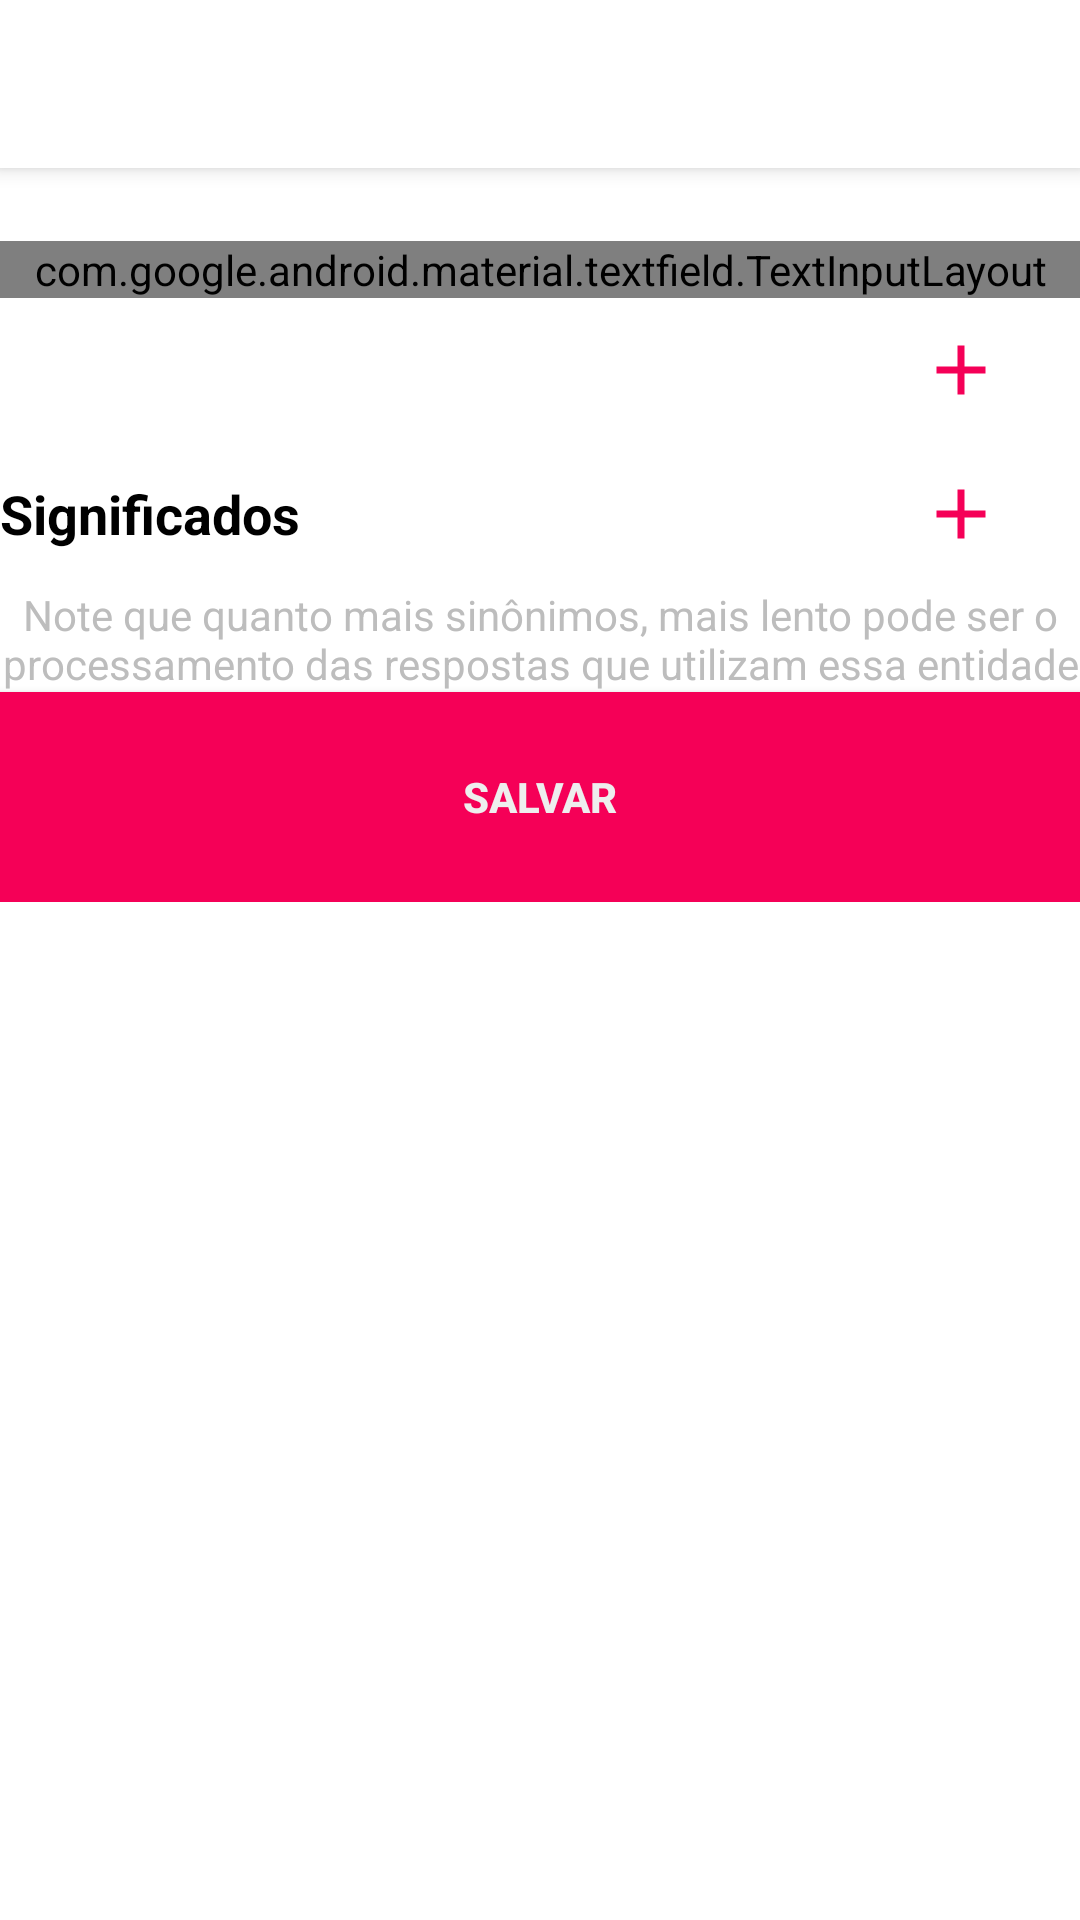

Icon bounding boxes for this 1080 × 1920 phone screenshot, format (x1, y1, x2, y2):
botão adicioanr mais respostas: (936, 345, 986, 395), (936, 489, 986, 539)
